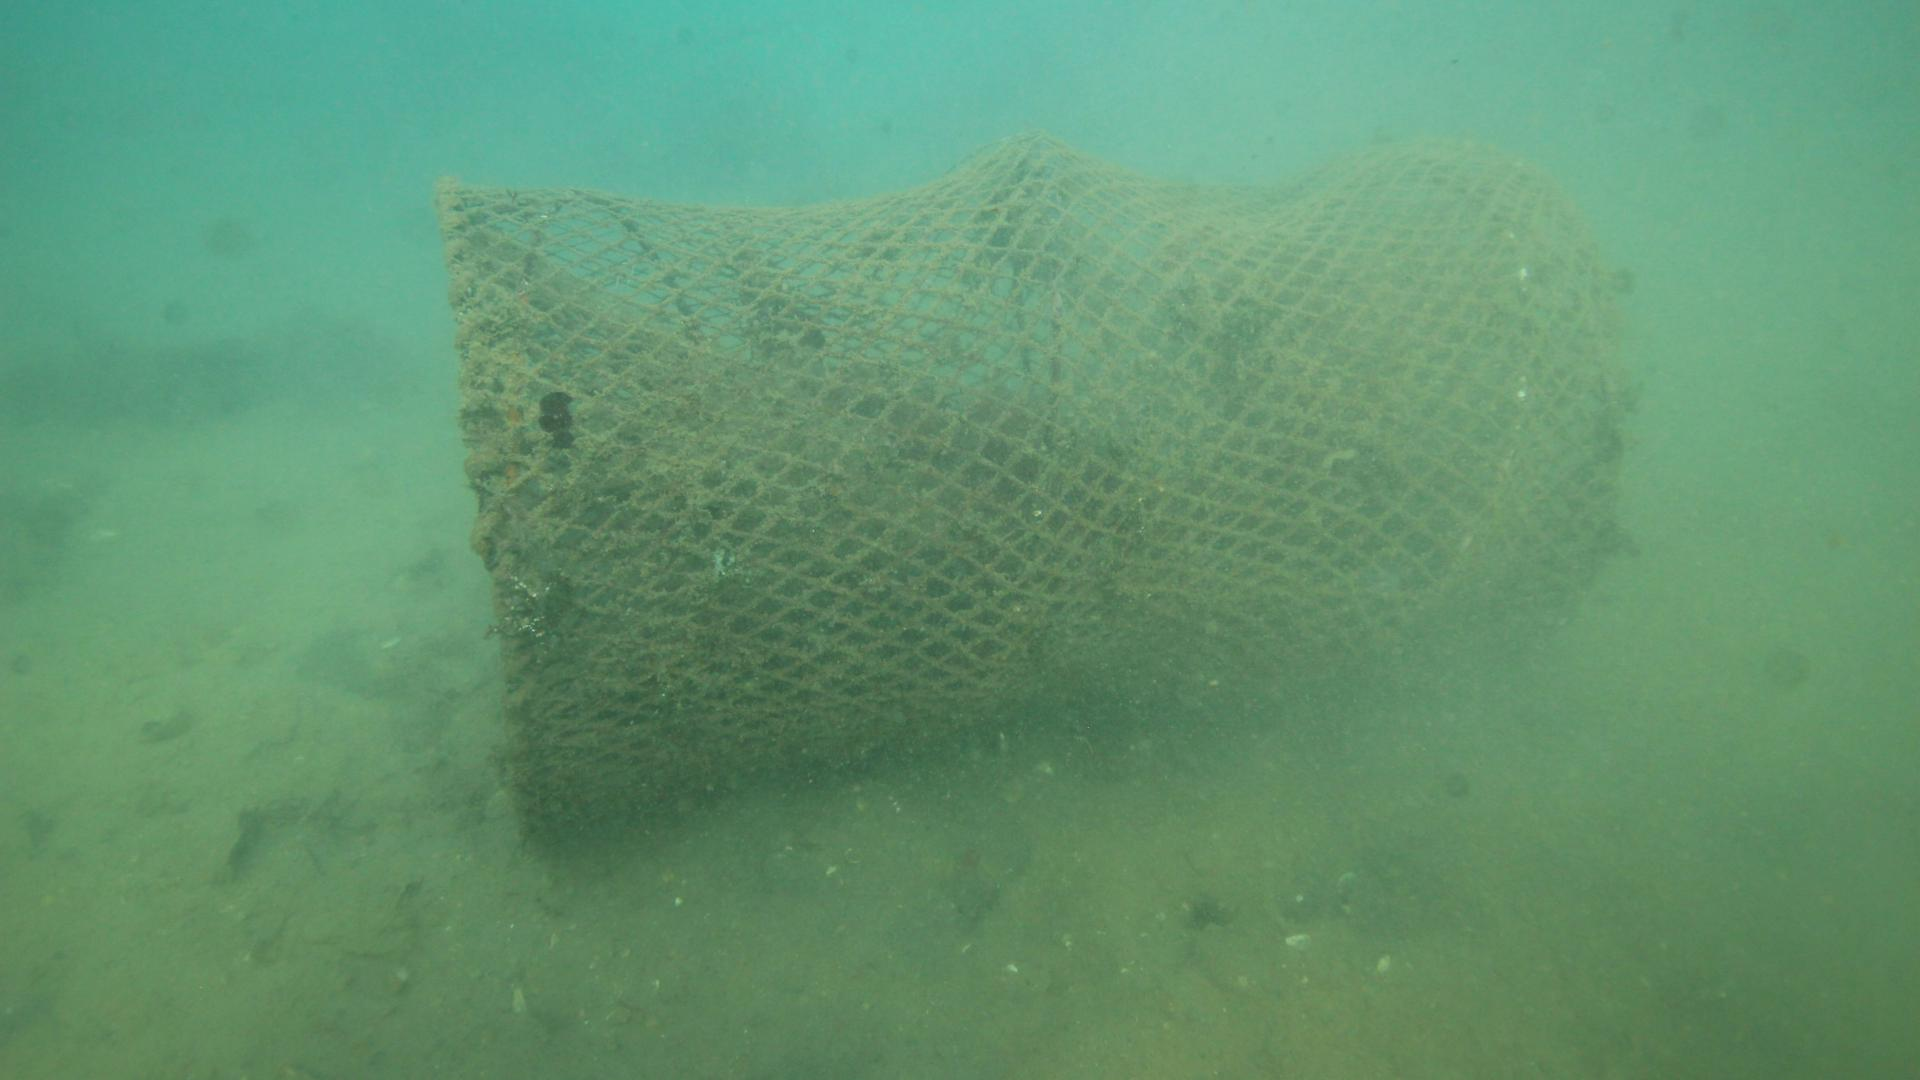spring fish trap: (431, 125, 1622, 855)
